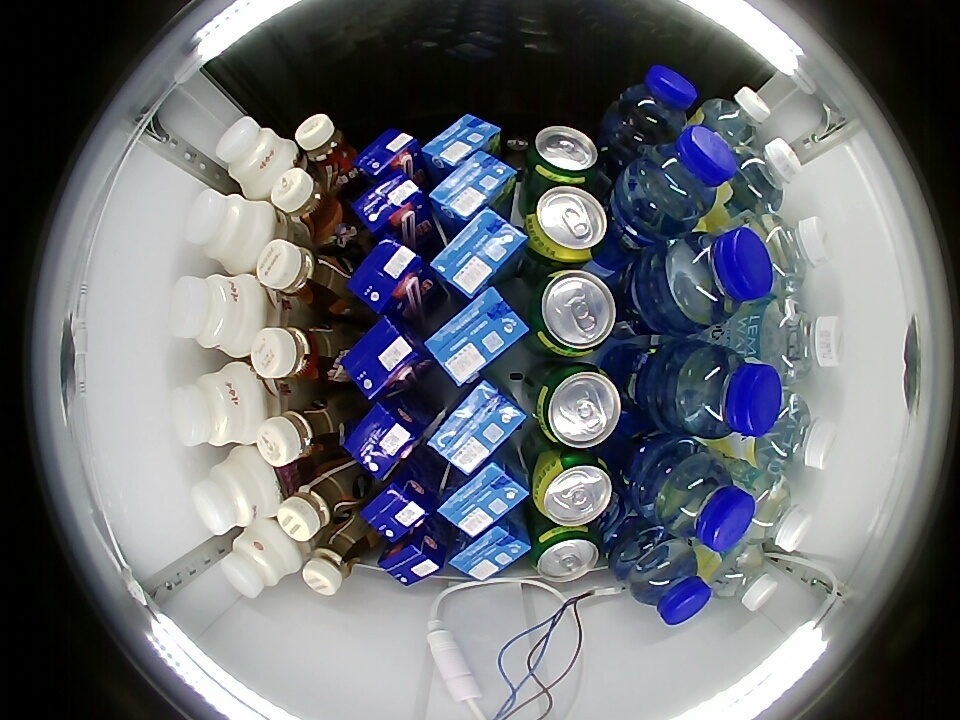bingqilinniunai: (339, 316, 425, 401), (340, 398, 425, 480), (347, 238, 428, 317), (350, 169, 428, 237), (360, 475, 434, 543), (379, 531, 445, 588), (356, 127, 421, 181)
kafei: (256, 240, 349, 318), (276, 462, 360, 541), (271, 169, 351, 249), (257, 395, 346, 466), (251, 323, 345, 390), (302, 520, 370, 595), (294, 114, 361, 188)
maidong: (662, 228, 774, 328), (649, 455, 756, 554), (630, 126, 739, 223), (673, 345, 782, 440), (620, 538, 714, 626), (608, 65, 700, 150)
qinningshui: (743, 213, 833, 297), (756, 298, 844, 382), (754, 392, 838, 470), (734, 472, 813, 551), (727, 137, 802, 212), (704, 542, 779, 611), (699, 86, 772, 156)
weitanai: (424, 287, 530, 386), (425, 379, 529, 475), (430, 207, 529, 301), (436, 460, 530, 538), (429, 149, 519, 227), (448, 520, 531, 582), (422, 113, 501, 173)
xuebi2: (532, 363, 622, 449), (530, 270, 618, 357), (525, 186, 609, 265), (532, 450, 618, 527), (527, 126, 601, 187), (532, 526, 603, 581)
yingyangkuaixian: (191, 445, 282, 535), (171, 361, 265, 447), (171, 273, 265, 357), (185, 189, 276, 275), (216, 117, 300, 199), (221, 520, 302, 598)
